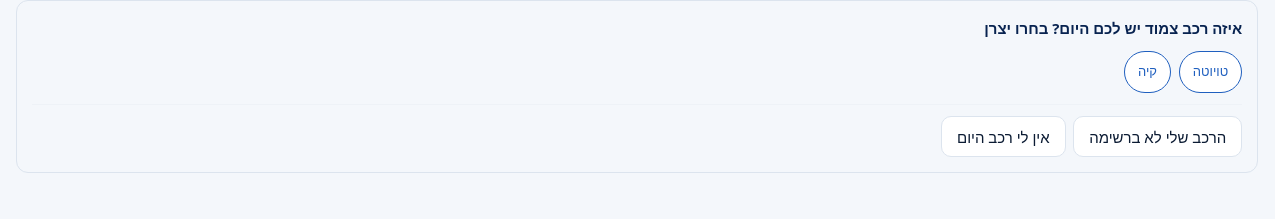
Test: CurrentCarPicker › a refusal stays on the card with the server's reason
Click the button "אין לי רכב היום".
click(1003, 137)  # box [941, 116, 1066, 157]
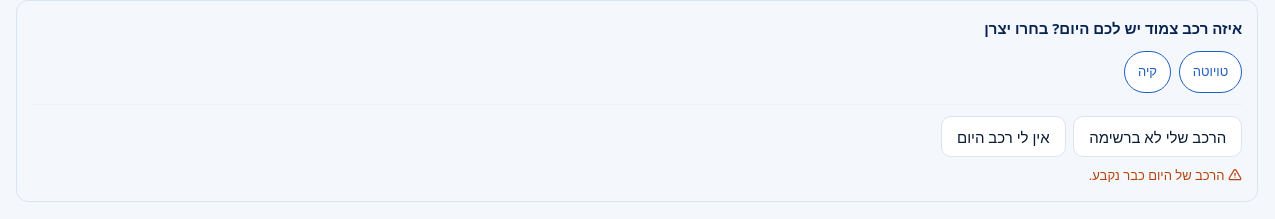
Now the message reads "הרכב של היום כבר נקבע.", box [1089, 166, 1224, 184]
